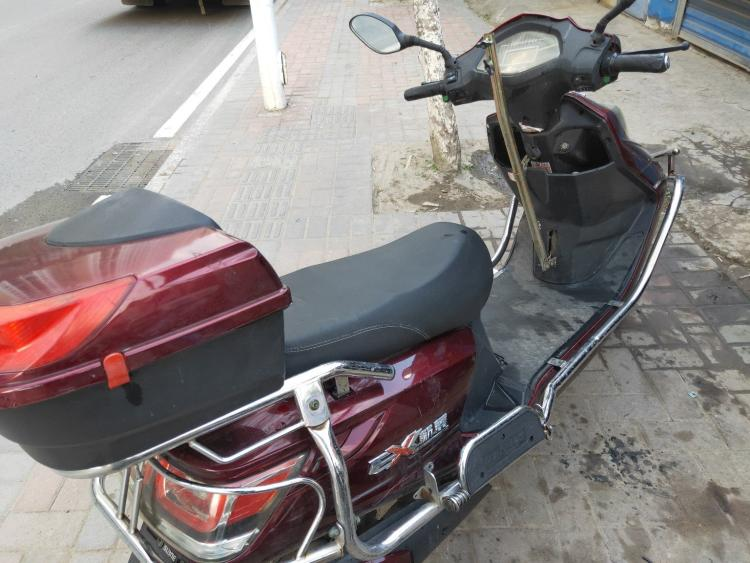电动车: (1, 10, 698, 561)
